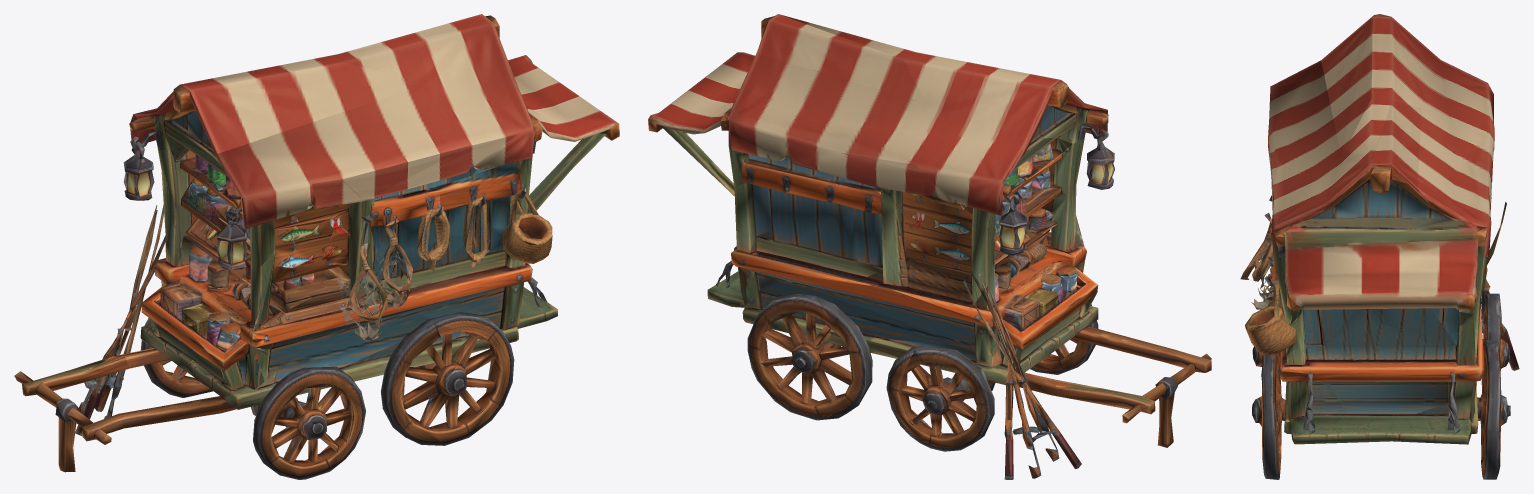
File: Prop_MerchantCart.fbx
3 views of the same model, side by side, from view 1: azimuth 30°, elevation 25°; view 2: azimuth 150°, elevation 25°; view 3: azimuth 270°, elevation 25° (orthographic). The views are drawn at different scales.
Visible parts, largest first — view 1: Mesh_0; view 2: Mesh_0; view 3: Mesh_0.
Part boxes in pixels (x1=…): Mesh_0: x1=14, y1=14, x2=619, y2=479; Mesh_0: x1=648, y1=14, x2=1211, y2=479; Mesh_0: x1=1240, y1=14, x2=1519, y2=479.
Size of the model in its own units: 190 by 128 by 89.76.
Materials: 1 (1 with a texture image).
